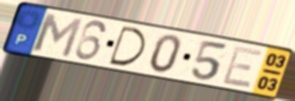0: (148, 33, 184, 75)
5: (189, 39, 230, 82)
6: (74, 20, 108, 63)
D: (107, 24, 148, 68)
E: (219, 45, 266, 90)
M: (31, 11, 85, 59)
